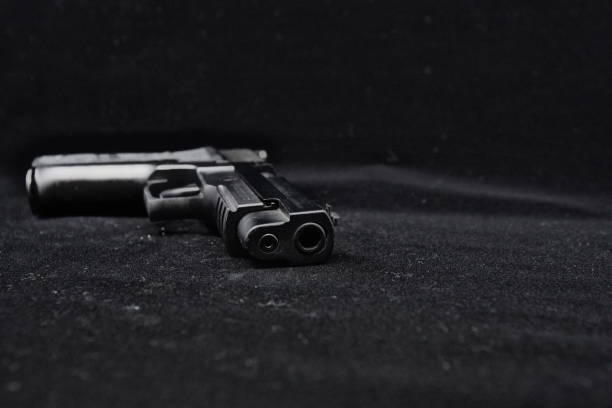pistol: (23, 137, 342, 276)
